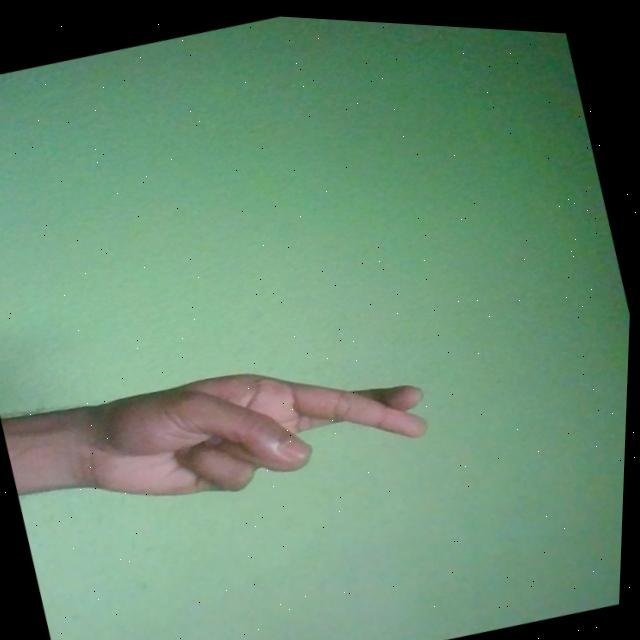Good Luck: (68, 314, 441, 535)
